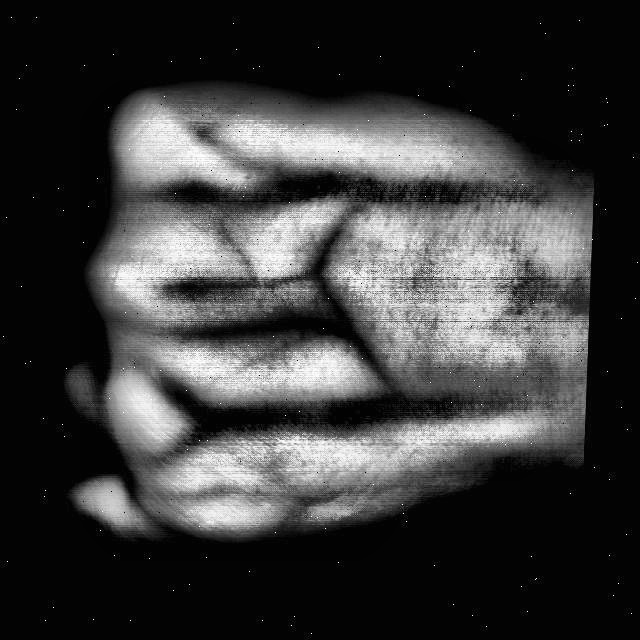Vein: (258, 387, 471, 438), (289, 167, 483, 209)
